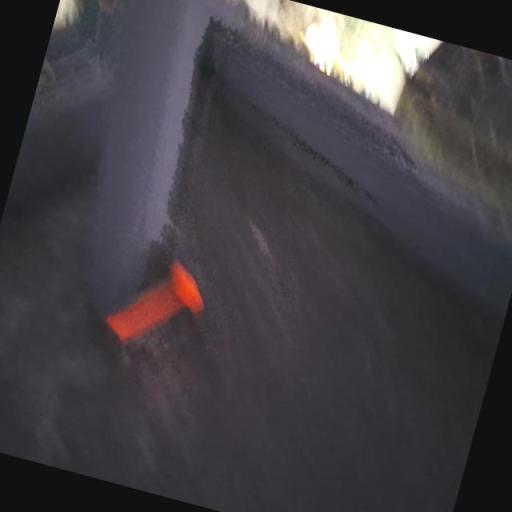mallet: (102, 244, 214, 358)
